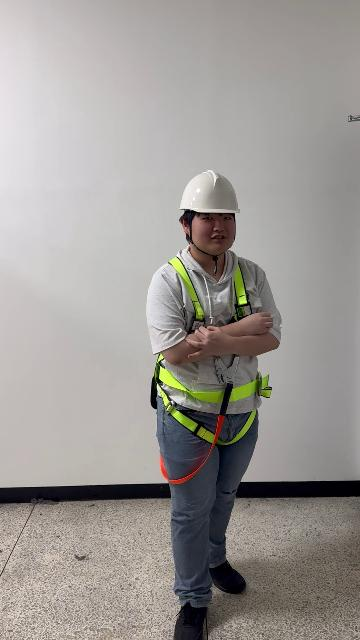helmet_worn: (178, 169, 242, 215)
shoe_not_worn: (209, 559, 246, 594), (173, 602, 207, 640)
vest_worn: (149, 260, 272, 454)
